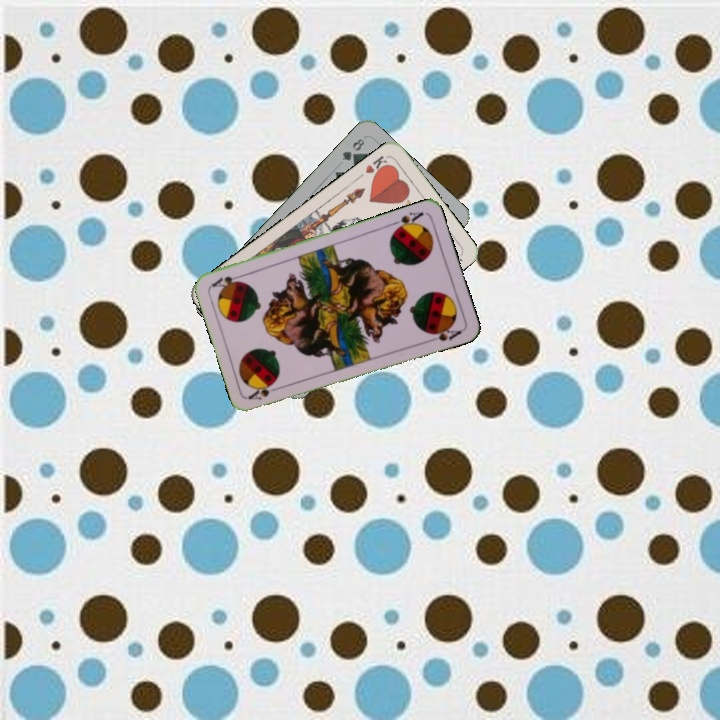G8: (338, 134, 367, 164)
HK: (361, 152, 392, 180)
SA: (387, 208, 426, 234), (245, 380, 285, 402)
